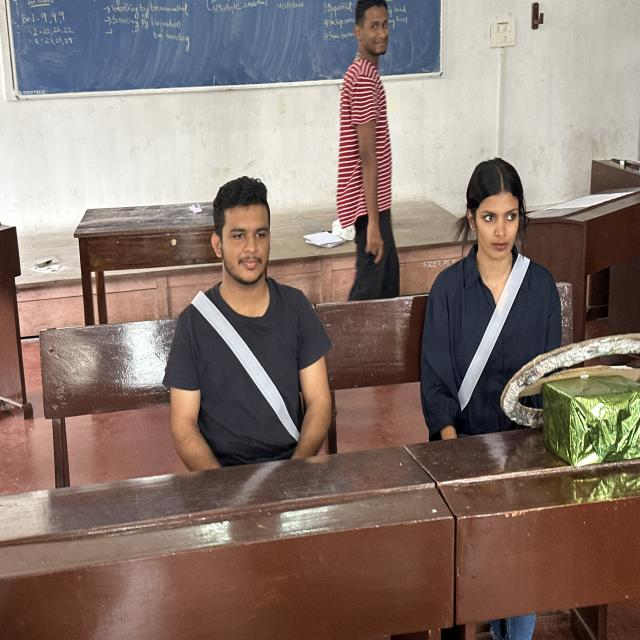seatbelt: (167, 288, 334, 470), (418, 265, 588, 428)
